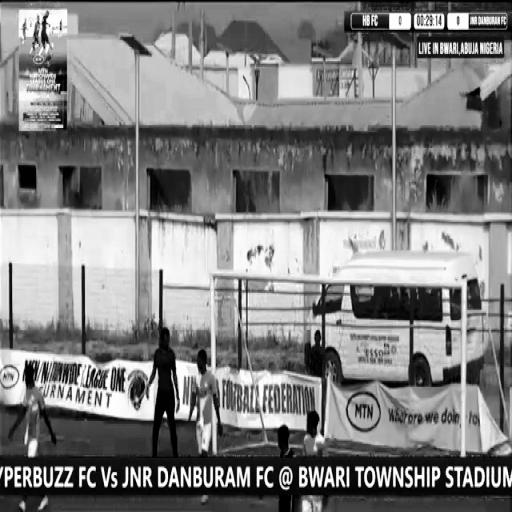keeper1: (150, 324, 180, 454)
team1: (189, 348, 216, 455), (22, 363, 44, 453), (304, 416, 330, 452)
